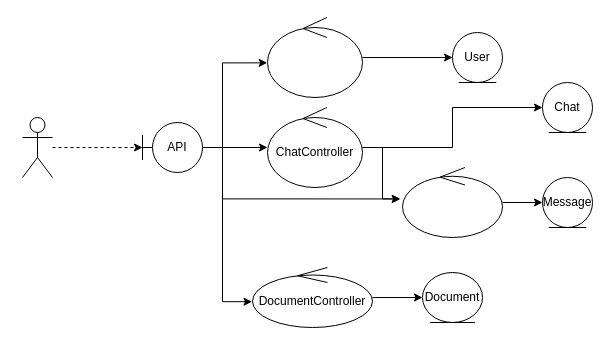
The diagram is 610 pixels wide and 345 high, and some of its shapes have lost their labels. The centre of each missing label's shape, as x and y in pixels:
MessageController: the point at 452,202
UserController: the point at 314,57
Клиент: the point at 37,147
